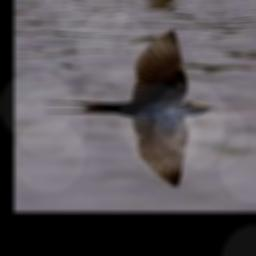Swallow: (42, 29, 214, 187)
